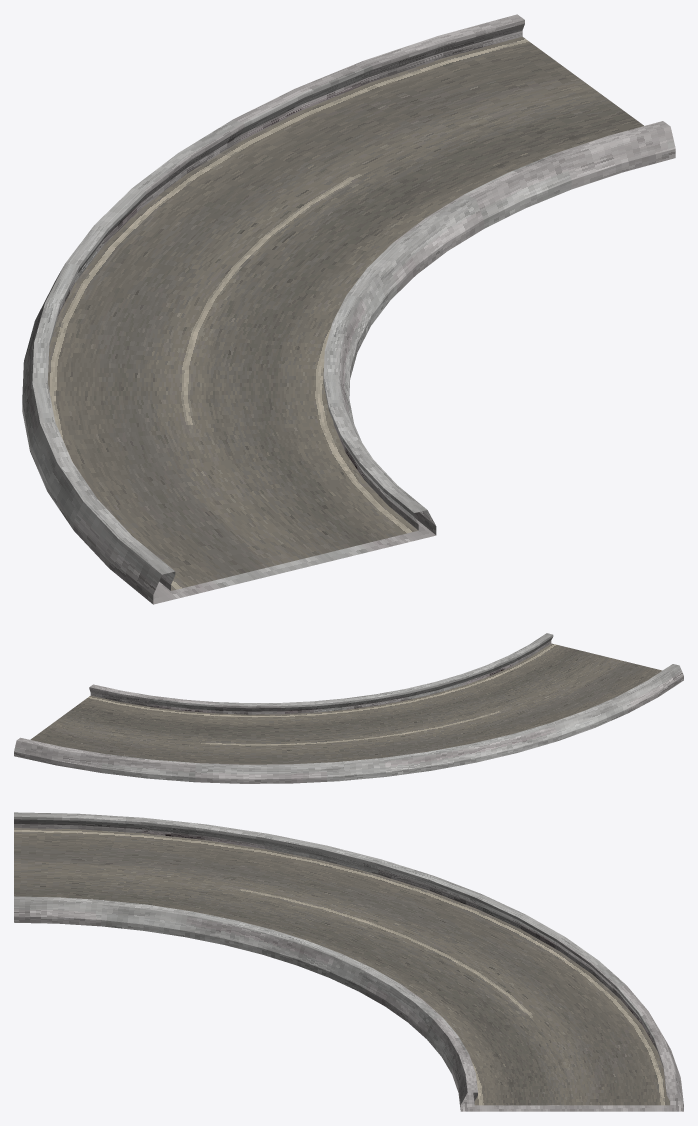
The model's file is road-Turn-Flat-Flat-Even-Right-Size3.glb.
The picture shows the model from 3 angles, top to bottom: view 1: azimuth 30°, elevation 25°; view 2: azimuth 150°, elevation 25°; view 3: azimuth 270°, elevation 25°; orthographic projection. The views are drawn at different scales.
Parts seen in each view (by area): view 1: road-Turn-Flat-Flat-Even-Right-Size3; view 2: road-Turn-Flat-Flat-Even-Right-Size3; view 3: road-Turn-Flat-Flat-Even-Right-Size3.
Boxes of the visible parts, box(x1,y1,x2,y2) form: road-Turn-Flat-Flat-Even-Right-Size3: box(22, 14, 675, 604); road-Turn-Flat-Flat-Even-Right-Size3: box(14, 633, 683, 783); road-Turn-Flat-Flat-Even-Right-Size3: box(14, 812, 683, 1111).
Bounding box in the file's own units: 3 × 0.0938 × 3.
2 materials, 2 textured.
